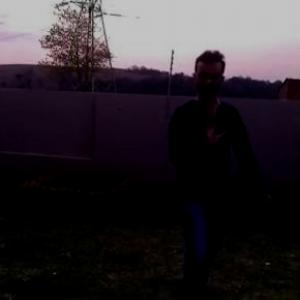follow_hand: (196, 110, 228, 147)
